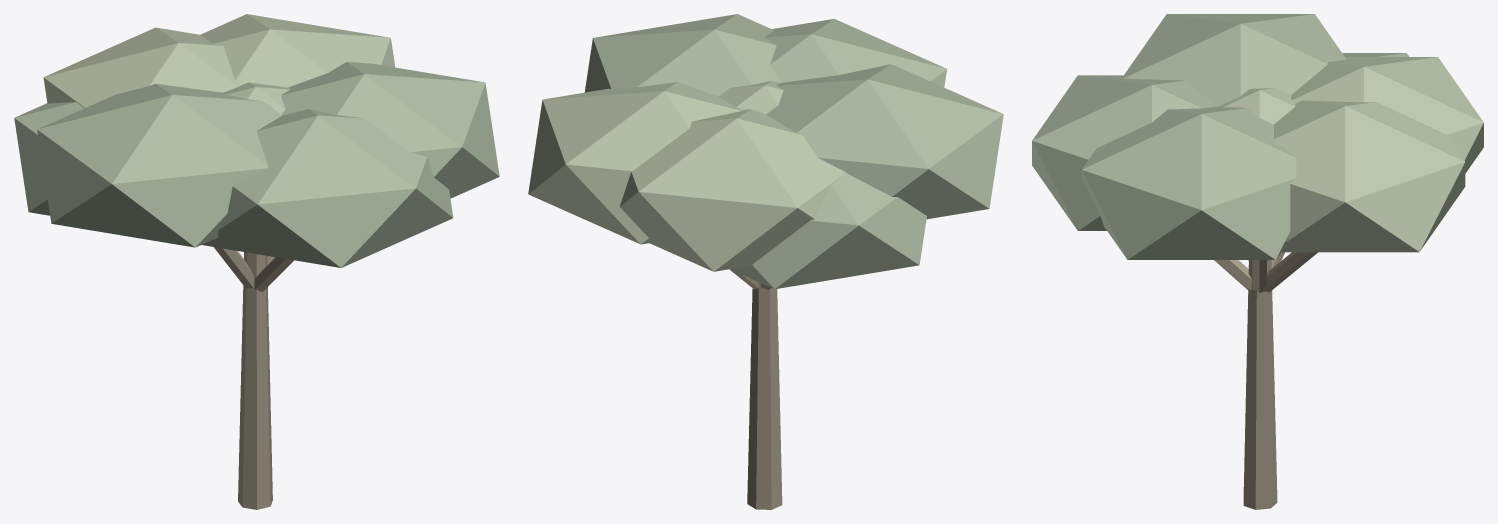
The model's file is StonePine.fbx.
The picture shows the model from 3 angles, left to right: view 1: azimuth 30°, elevation 25°; view 2: azimuth 150°, elevation 25°; view 3: azimuth 270°, elevation 25°; orthographic projection.
Parts seen in each view (by area): view 1: Umbrella canopy.004, Umbrella canopy.002, Umbrella canopy.005, Umbrella canopy.006, Umbrella canopy.003, Trunk, Umbrella canopy.001, Umbrella canopy, Branch.004, Branch.002; view 2: Umbrella canopy.006, Umbrella canopy.004, Umbrella canopy.003, Umbrella canopy.001, Umbrella canopy.005, Umbrella canopy.002, Trunk, Umbrella canopy; view 3: Umbrella canopy.005, Umbrella canopy.003, Umbrella canopy.004, Umbrella canopy.002, Umbrella canopy.006, Trunk, Umbrella canopy, Branch.003, Branch.002.
Part boxes in pixels (left/top/right/bottom): Umbrella canopy.004: left=37, top=83, right=281, bottom=247; Umbrella canopy.002: left=202, top=109, right=453, bottom=267; Umbrella canopy.005: left=281, top=62, right=499, bottom=198; Umbrella canopy.006: left=43, top=27, right=240, bottom=107; Umbrella canopy.003: left=200, top=14, right=395, bottom=87; Trunk: left=238, top=252, right=272, bottom=509; Umbrella canopy.001: left=14, top=102, right=84, bottom=215; Umbrella canopy: left=223, top=82, right=290, bottom=114; Branch.004: left=214, top=247, right=253, bottom=288; Branch.002: left=255, top=257, right=293, bottom=291; Umbrella canopy.006: left=619, top=109, right=846, bottom=271; Umbrella canopy.004: left=766, top=64, right=1003, bottom=219; Umbrella canopy.003: left=528, top=82, right=742, bottom=244; Umbrella canopy.001: left=730, top=173, right=926, bottom=289; Umbrella canopy.005: left=584, top=14, right=781, bottom=96; Umbrella canopy.002: left=764, top=18, right=946, bottom=87; Trunk: left=747, top=282, right=782, bottom=509; Umbrella canopy: left=718, top=81, right=783, bottom=114; Umbrella canopy.005: left=1081, top=106, right=1296, bottom=259; Umbrella canopy.003: left=1274, top=100, right=1465, bottom=252; Umbrella canopy.004: left=1122, top=14, right=1346, bottom=106; Umbrella canopy.002: left=1032, top=75, right=1216, bottom=230; Umbrella canopy.006: left=1291, top=57, right=1483, bottom=173; Trunk: left=1243, top=260, right=1277, bottom=509; Umbrella canopy: left=1219, top=88, right=1295, bottom=124; Branch.003: left=1262, top=252, right=1317, bottom=292; Branch.002: left=1214, top=260, right=1251, bottom=290.
Size of the model in its own units: 5.05 by 5.09 by 4.81.
